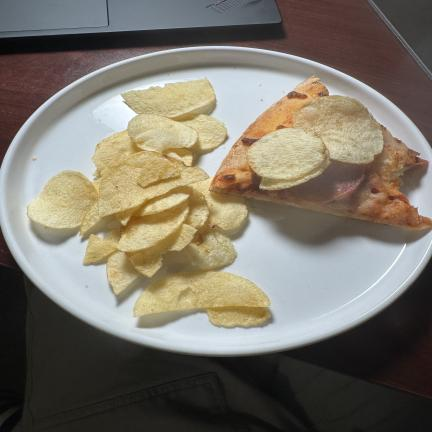chips: (99, 152, 208, 216), (134, 271, 269, 316), (293, 96, 383, 163), (248, 128, 329, 189), (27, 171, 97, 228), (122, 78, 215, 117), (127, 224, 195, 277), (118, 203, 188, 251), (193, 178, 247, 229), (143, 159, 208, 201), (128, 114, 197, 151), (99, 163, 146, 217), (185, 228, 236, 269), (92, 131, 139, 175), (175, 114, 226, 154), (134, 187, 192, 216), (138, 152, 179, 187), (107, 252, 140, 294), (260, 168, 322, 190), (107, 252, 139, 294), (205, 307, 270, 326), (83, 235, 117, 264), (185, 188, 209, 229), (80, 202, 101, 235), (162, 148, 193, 166)
pizza: (210, 77, 431, 229)
plate: (0, 47, 431, 355)
